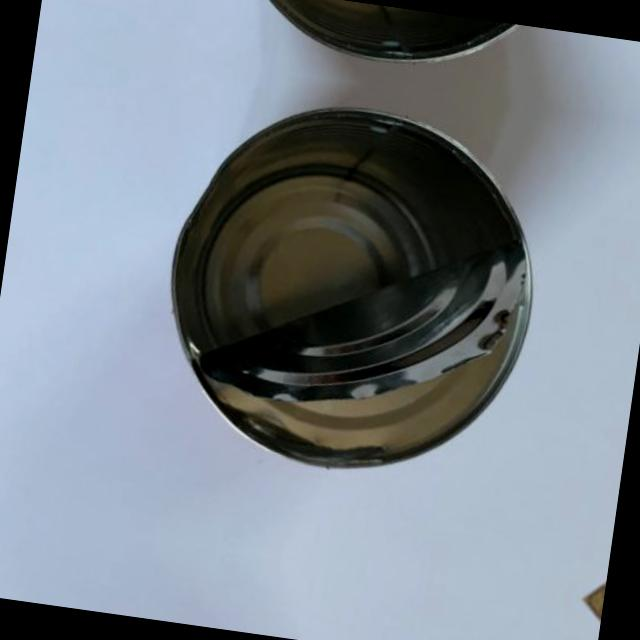Metal: (130, 75, 599, 521), (190, 0, 613, 98), (109, 605, 525, 640)
